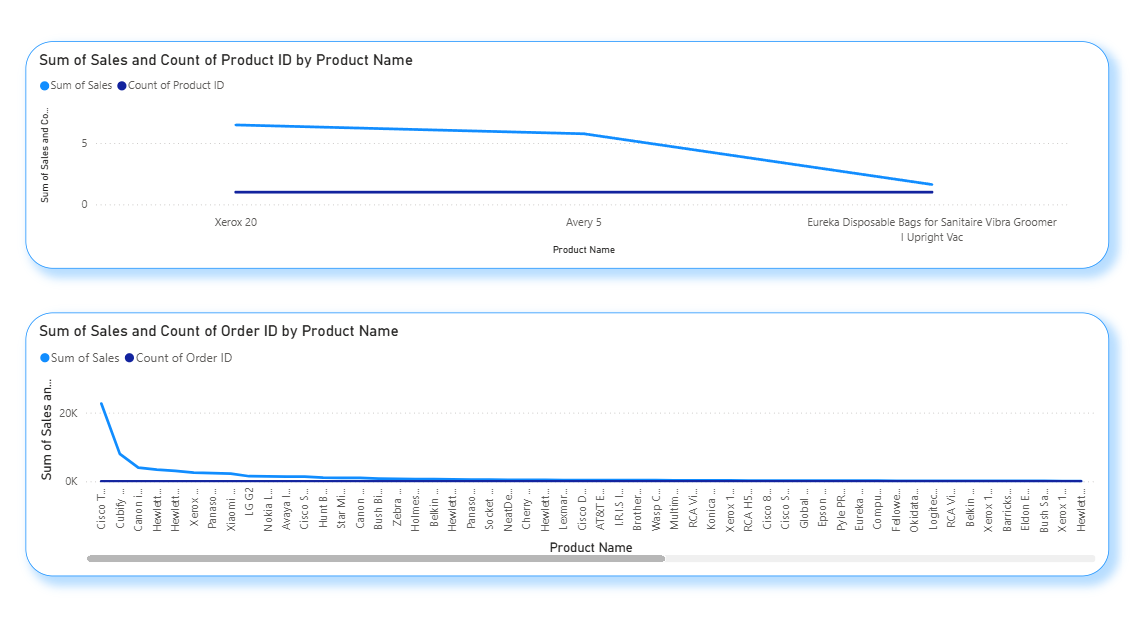

What the dashboard file says about the page in this screenshot:
{"tool":"powerbi","page":{"name":"Page 6","canvas":[1280,720],"ordinal":5},"visuals":[{"type":"lineChart","fields":{"Category":["train.Product Name"],"Y":["Sum(train.Sales)","CountNonNull(train.Product ID)"]},"box":[46.7,61.7,1189.7,249.7],"z":0},{"type":"lineChart","fields":{"Category":["train.Product Name"],"Y":["Sum(train.Sales)","CountNonNull(train.Order ID)"]},"box":[46.7,359.5,1189.7,289.5],"z":1000}]}

Visuals, with their boxes in screenshot pixels (x1, y1, x2, y2), scaled from the page's 1280x720 canvas onto the 1136x627 screenshot:
lineChart - train.Product Name x Sum(train.Sales): crop(41, 54, 1097, 271)
lineChart - train.Product Name x Sum(train.Sales): crop(41, 313, 1097, 565)
